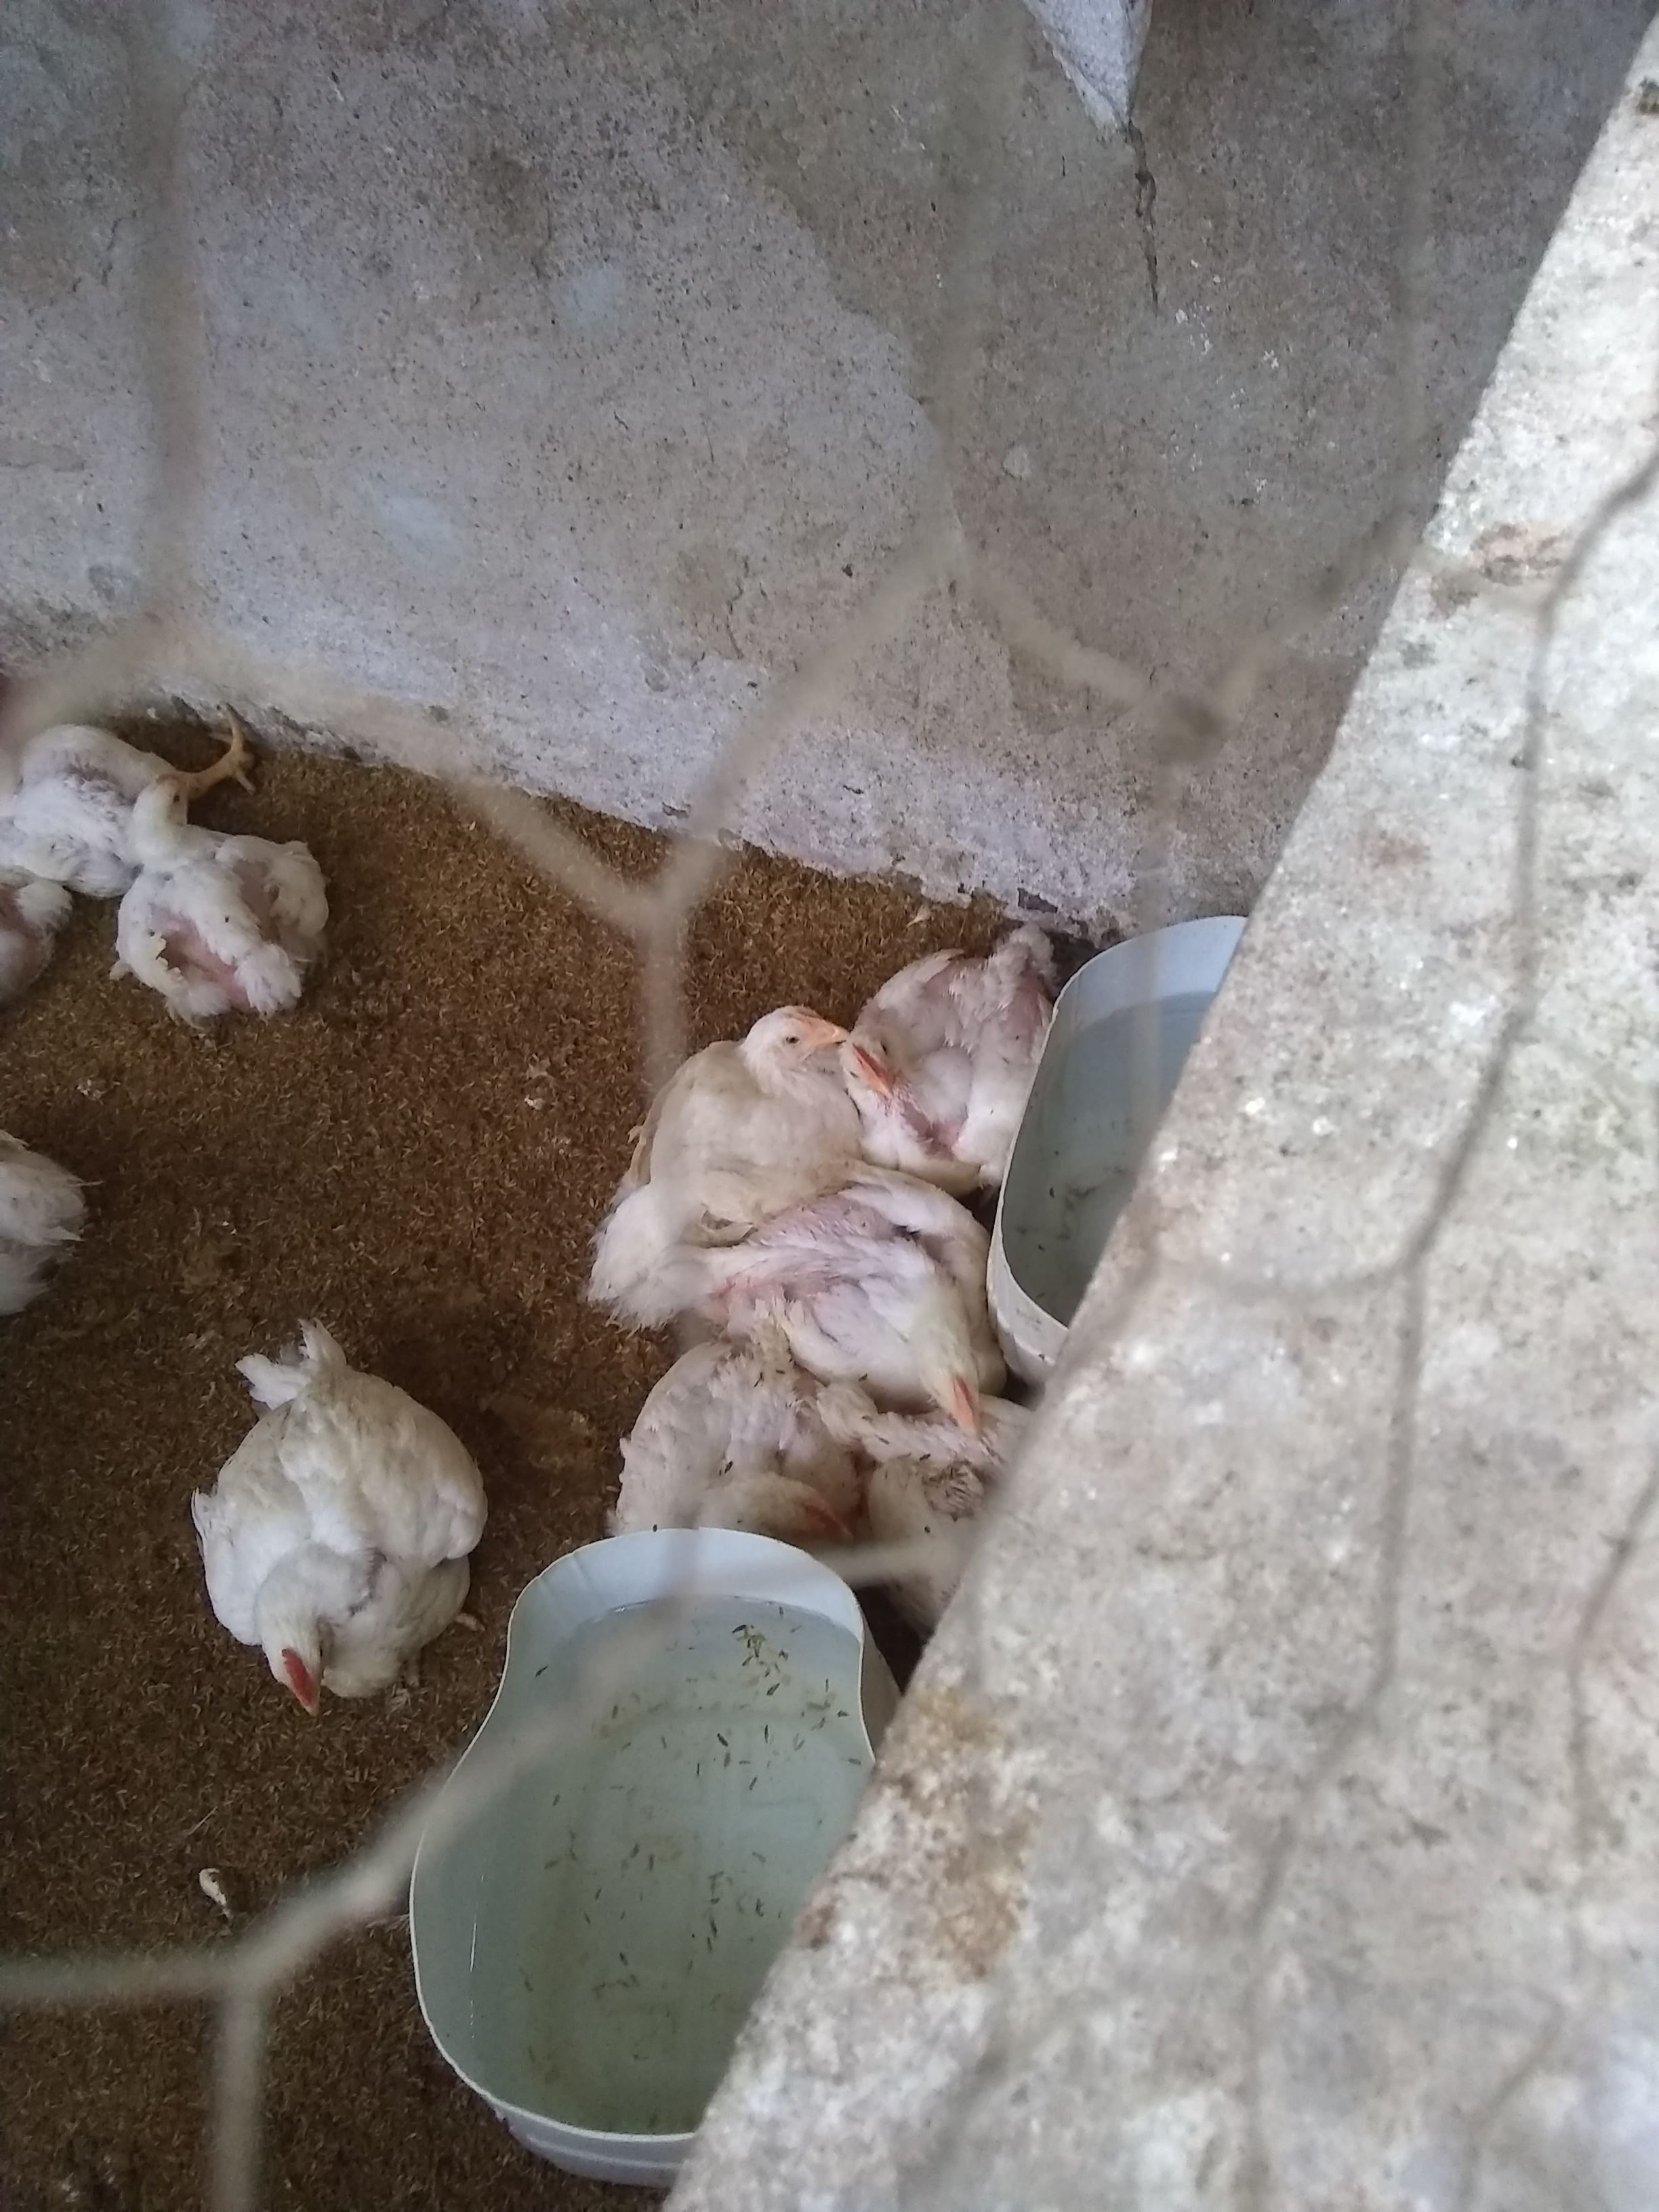Pollos: (112, 1336, 516, 1723), (119, 749, 354, 1069), (633, 1353, 861, 1634), (788, 1193, 1035, 1446), (601, 970, 835, 1231), (810, 1001, 1039, 1186), (863, 867, 1086, 1028), (0, 672, 162, 892), (0, 1120, 124, 1324)
